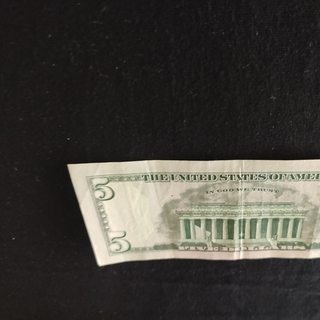5USDBack: (65, 157, 320, 267)
